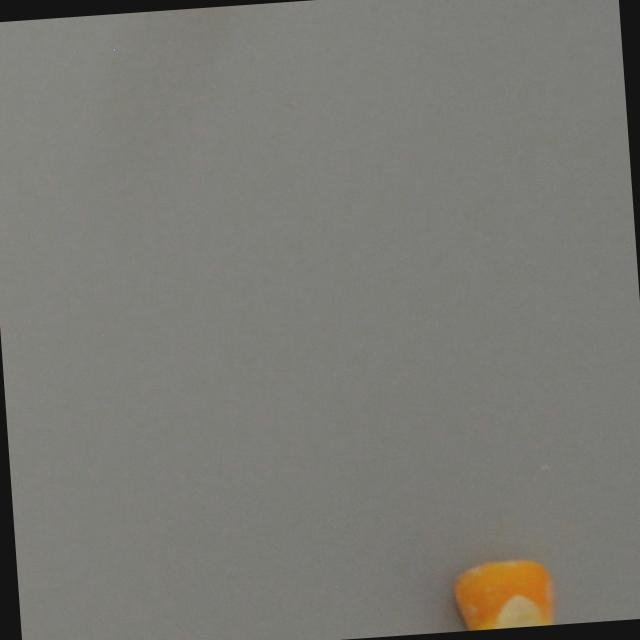dañado: (448, 552, 558, 631)
